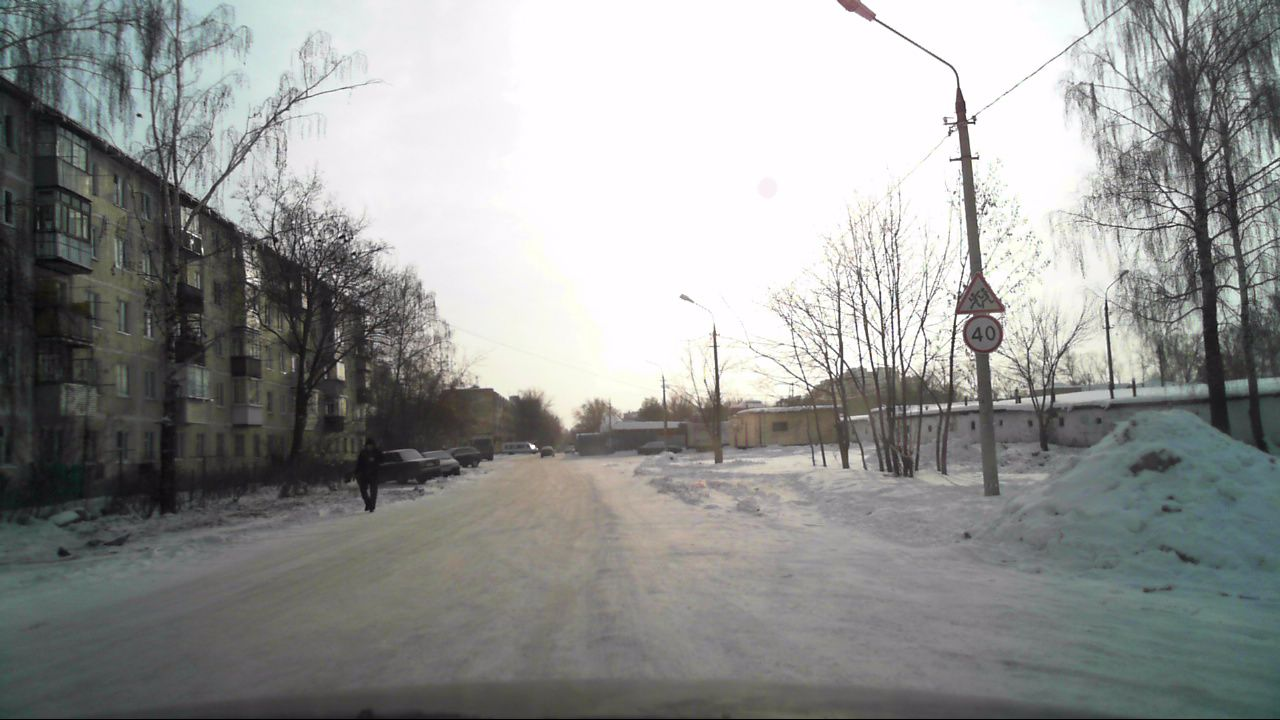speed_warning_40: (963, 315, 1002, 352)
